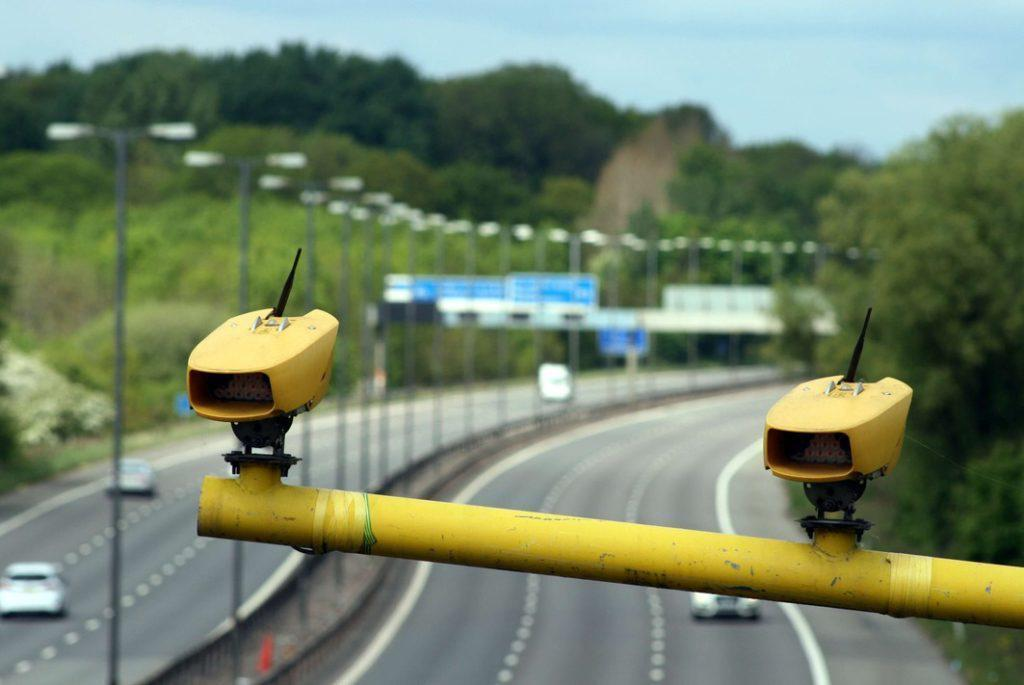Speed-Camera: (178, 240, 346, 439), (754, 300, 921, 500)
